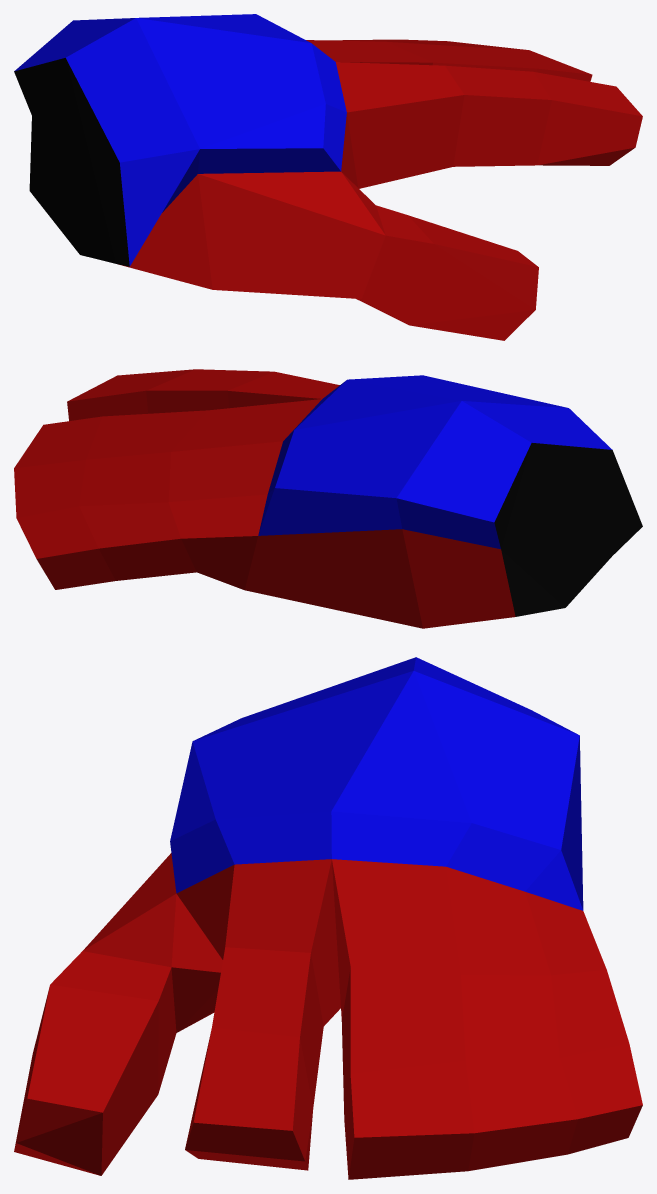
File: Chr_HandLeft_Male_Static_05.fbx
3 views of the same model, one above another, from view 1: azimuth 30°, elevation 25°; view 2: azimuth 150°, elevation 25°; view 3: azimuth 270°, elevation 25° (orthographic). The views are drawn at different scales.
Visible parts, largest first — view 1: Chr_HandLeft_Male_05; view 2: Chr_HandLeft_Male_05; view 3: Chr_HandLeft_Male_05.
Boxes of the visible parts, box(x1,y1,x2,y2) form: Chr_HandLeft_Male_05: box(14, 14, 642, 340); Chr_HandLeft_Male_05: box(14, 369, 642, 628); Chr_HandLeft_Male_05: box(14, 657, 642, 1179).
Bounding box in the file's own units: 23.71 × 12.02 × 18.8.
